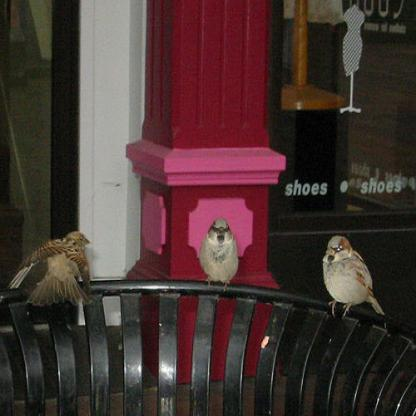bird: (7, 230, 93, 304), (322, 235, 384, 318), (198, 217, 240, 288)
